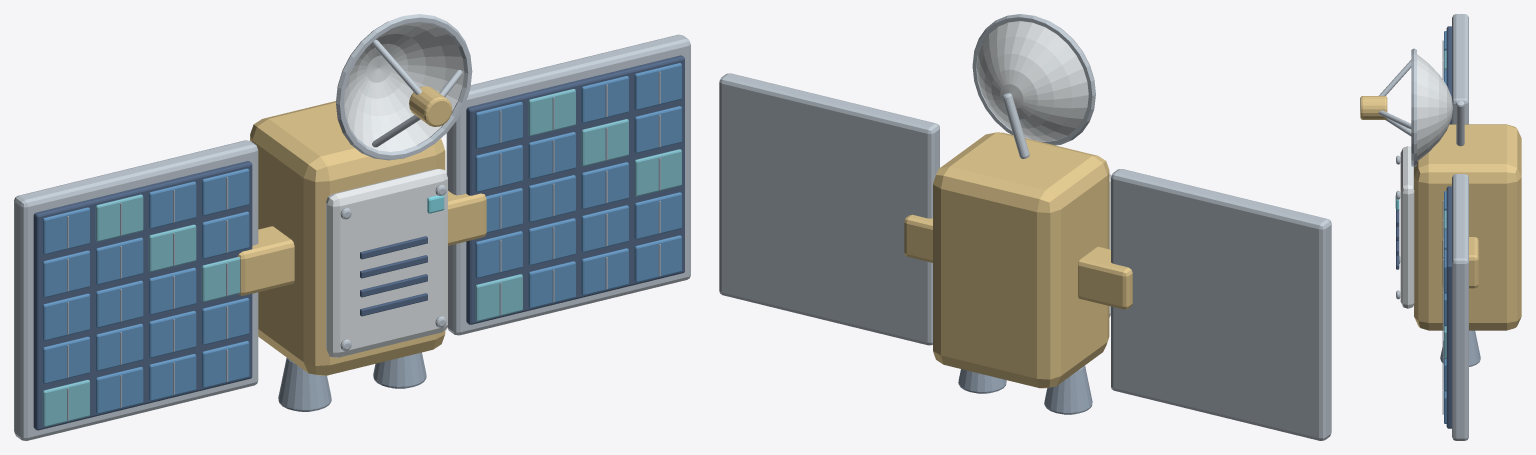
File: OrbitalSatellite.fbx
3 views of the same model, side by side, from view 1: azimuth 30°, elevation 25°; view 2: azimuth 150°, elevation 25°; view 3: azimuth 270°, elevation 25° (orthographic). The views are drawn at different scales.
Parts seen in each view (by area): view 1: OrbitalSatellite; view 2: OrbitalSatellite; view 3: OrbitalSatellite.
Boxes of the visible parts, x1,y1,x2,y2 form: OrbitalSatellite: (14,14,690,440); OrbitalSatellite: (719,14,1331,440); OrbitalSatellite: (1360,14,1521,440).
Size of the model in its own units: 4.8 by 2.7 by 1.32.
